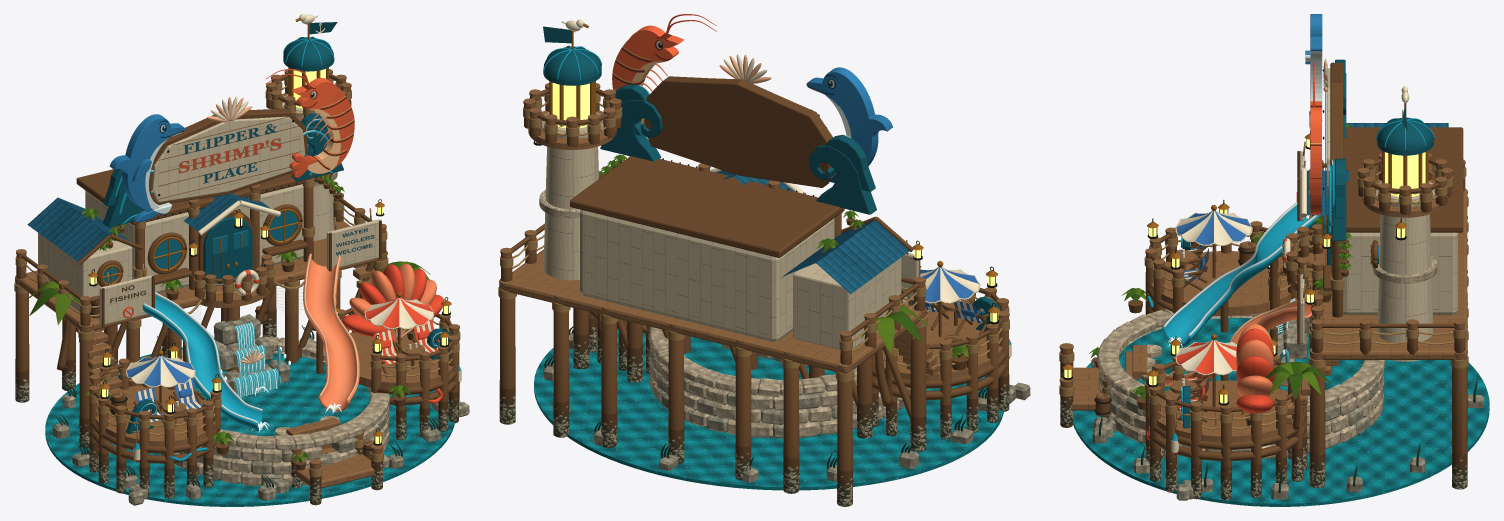
Rendered from flipper-shrimp-ca.glb.
3 views of the same model, side by side, from view 1: azimuth 30°, elevation 25°; view 2: azimuth 150°, elevation 25°; view 3: azimuth 270°, elevation 25° (orthographic). The views are drawn at different scales.
Visible parts, largest first — view 1: Flipper and Shrimp C+A; view 2: Flipper and Shrimp C+A; view 3: Flipper and Shrimp C+A.
Boxes of the visible parts, x1,y1,x2,y2 form: Flipper and Shrimp C+A: (14, 14, 469, 506); Flipper and Shrimp C+A: (498, 14, 1030, 506); Flipper and Shrimp C+A: (1059, 14, 1489, 506).
Size of the model in its own units: 0.86 by 0.7671 by 0.7818.
34 materials, 17 textured.
